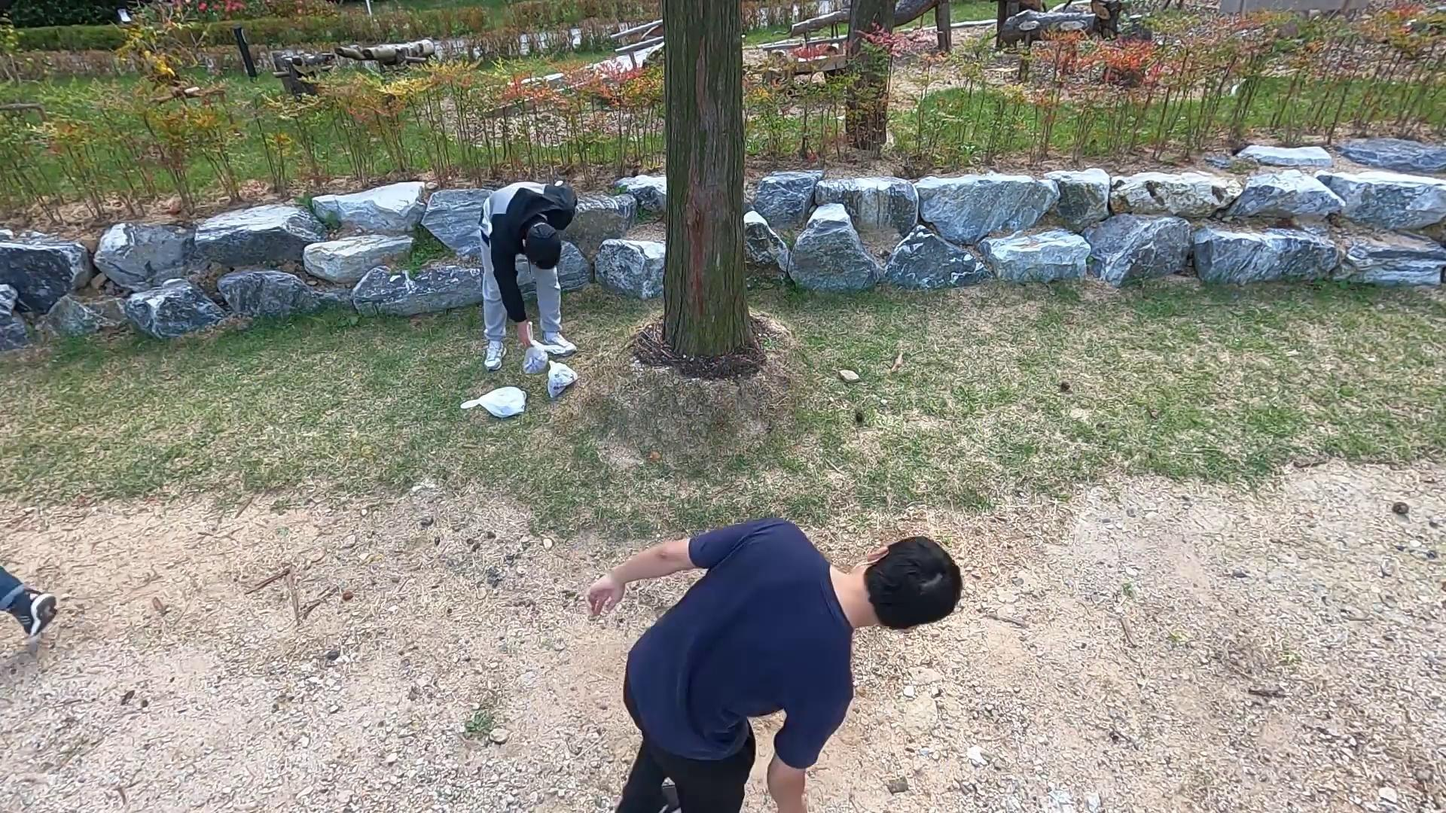person: (581, 517, 971, 813), (474, 174, 580, 373)
trash: (456, 384, 531, 425), (532, 356, 582, 399), (514, 339, 553, 375)
